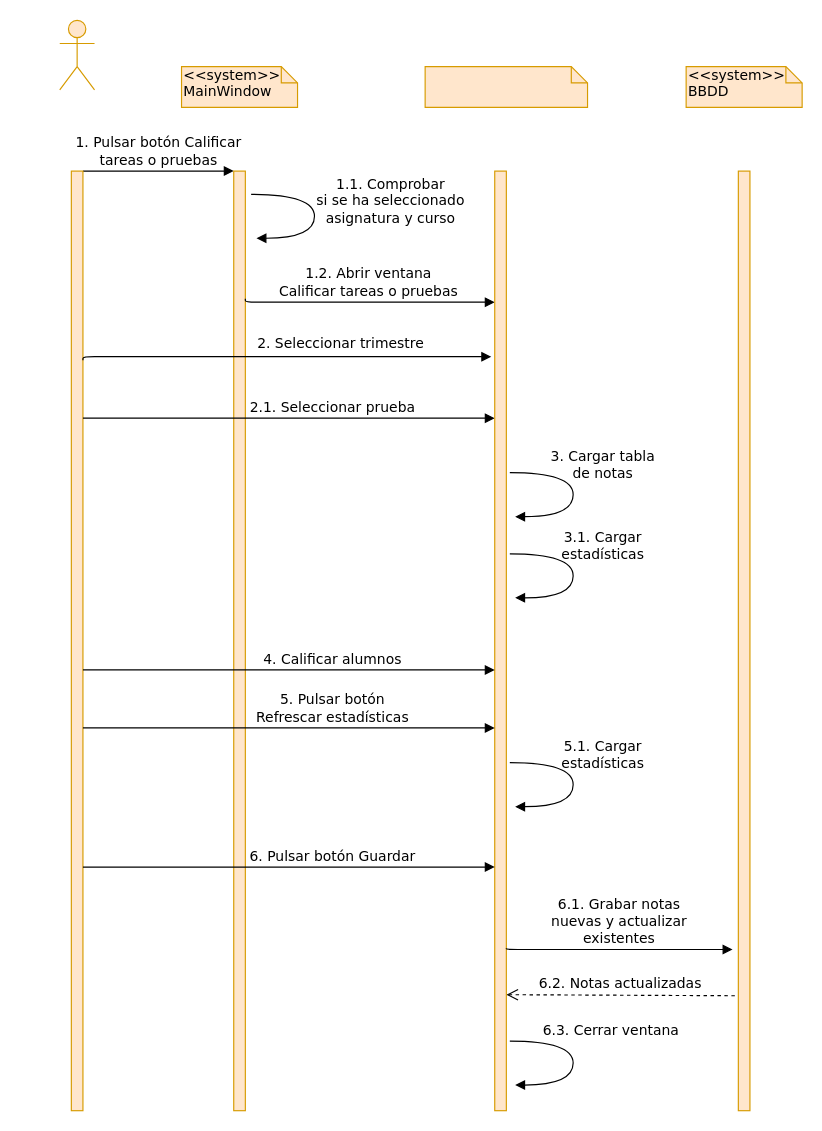
This 822x1131 diagram has some shape labels left out. The shapes that lost their labels are listed below. From the top down, each one's box as (x1, y1, x2, y2) in pixels, then its label:
(59, 19, 95, 90): <<user>> Maestro
(424, 66, 588, 107): <<system>> CalificarTareaWindow
